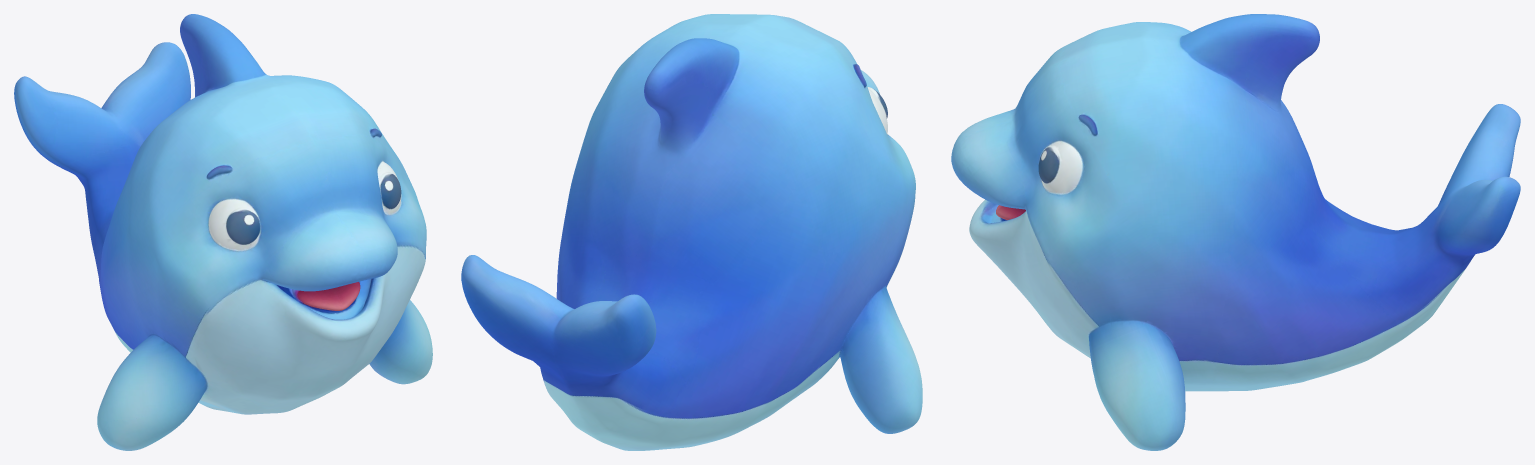
Rendered from Delfino.glb.
3 views of the same model, side by side, from view 1: azimuth 30°, elevation 25°; view 2: azimuth 150°, elevation 25°; view 3: azimuth 270°, elevation 25° (orthographic). The views are drawn at different scales.
Bounding box in the file's own units: 1.3 × 1.34 × 1.9.
Materials: 1 (1 with a texture image).
